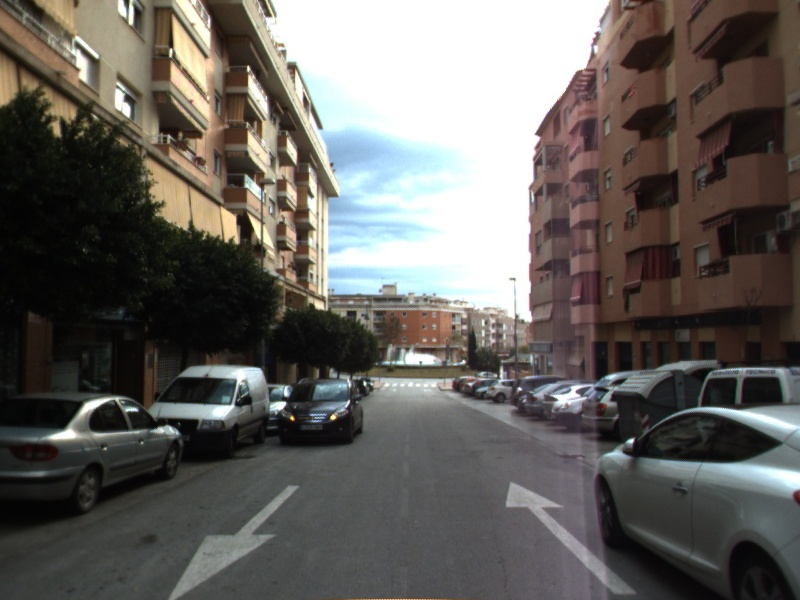STRAIGHT: (502, 478, 640, 596)
